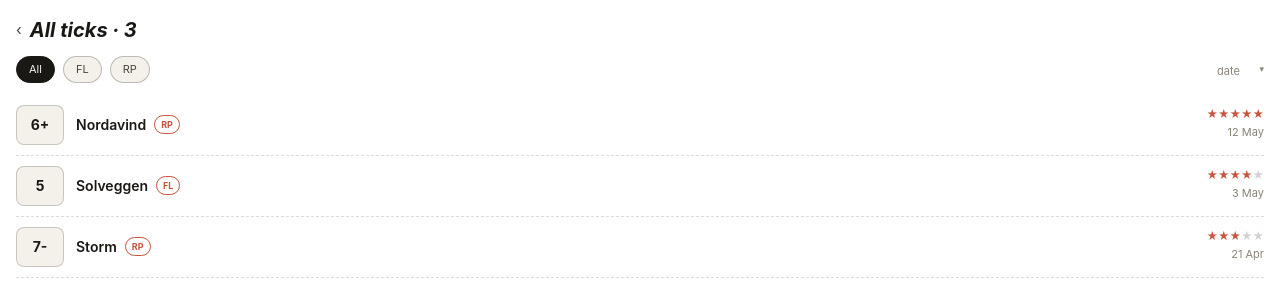
Test: TicksAllList › filters by style chip and updates the header count
The image size is (1280, 295).
Click the button "FL".
click(82, 69)  # box 63,56 -> 102,82
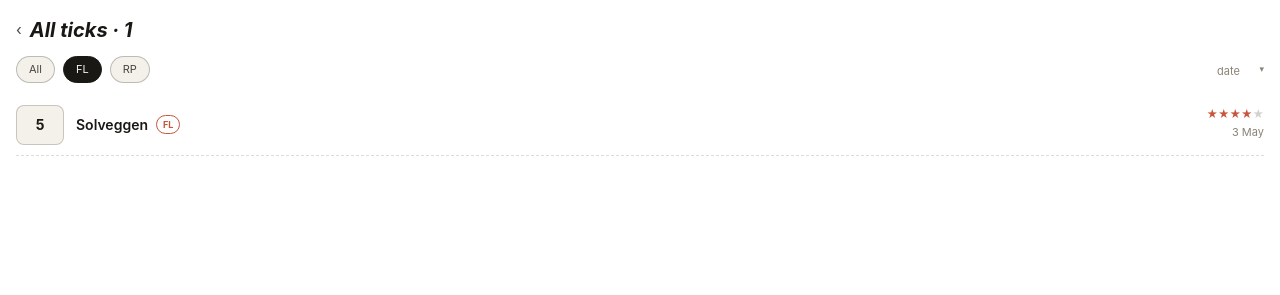
expect the text "Solveggen" is shown: met, box 76,114 -> 148,135
expect the heading "All ticks · 1" is shown: met, box 30,16 -> 132,44
expect the text "Nordavind" is gone: met
